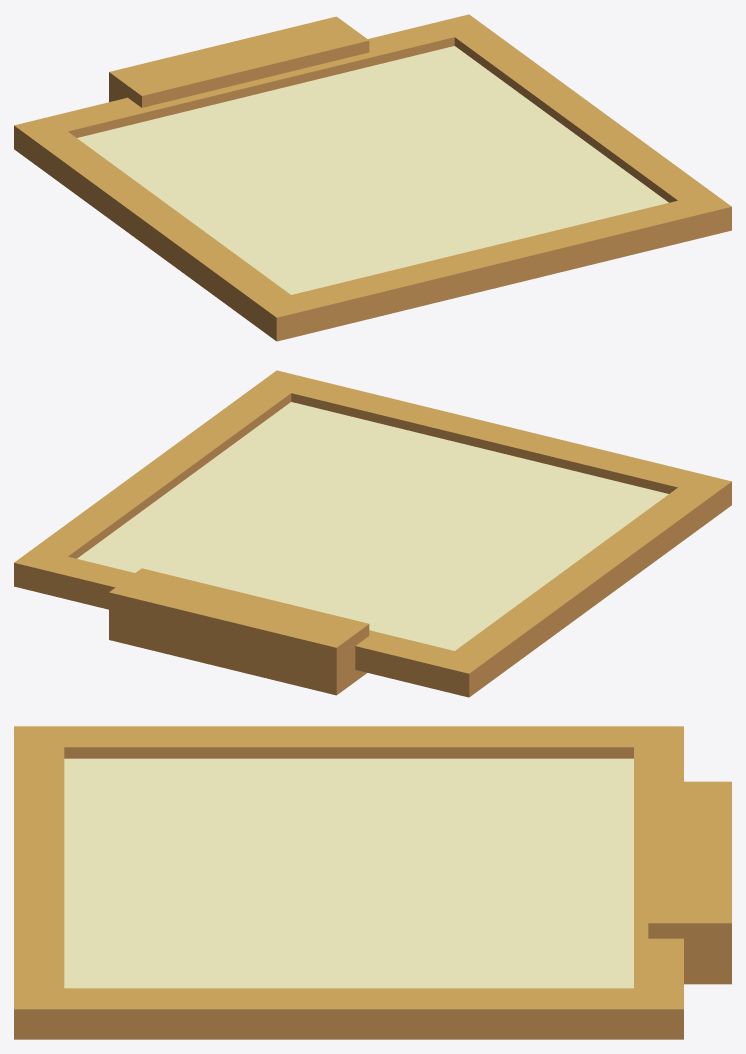
File: Clip_Board.fbx
The picture shows the model from 3 angles, top to bottom: view 1: azimuth 30°, elevation 25°; view 2: azimuth 150°, elevation 25°; view 3: azimuth 270°, elevation 25°; orthographic projection. The views are drawn at different scales.
Visible parts, largest first — view 1: Box001, Box002; view 2: Box001, Box002; view 3: Box001, Box002.
Part boxes in pixels (bbox=[...]): Box001: bbox=[14, 14, 731, 341]; Box002: bbox=[109, 16, 369, 107]; Box001: bbox=[14, 370, 731, 697]; Box002: bbox=[109, 568, 369, 695]; Box001: bbox=[14, 726, 683, 1039]; Box002: bbox=[648, 781, 731, 984].
Size of the model in its own units: 40 by 4 by 42.86.
